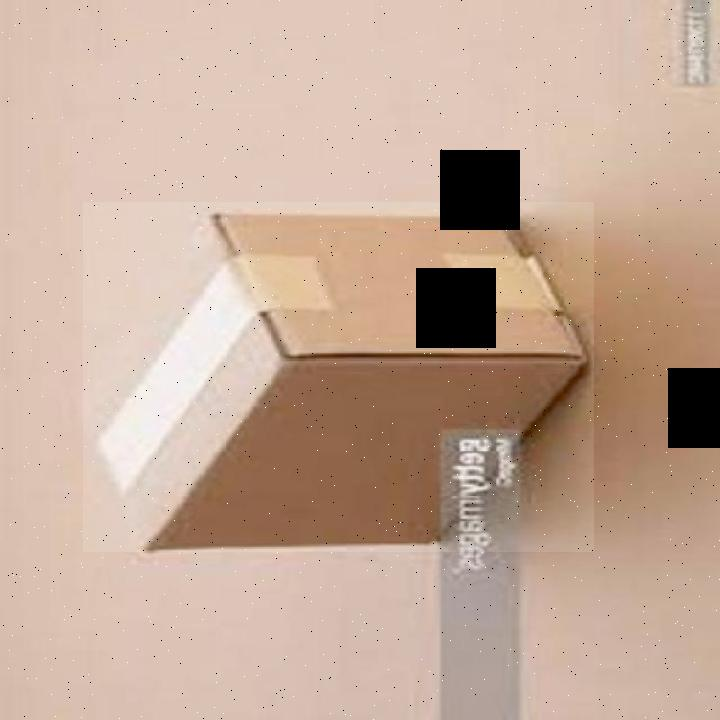box: (83, 202, 594, 552)
